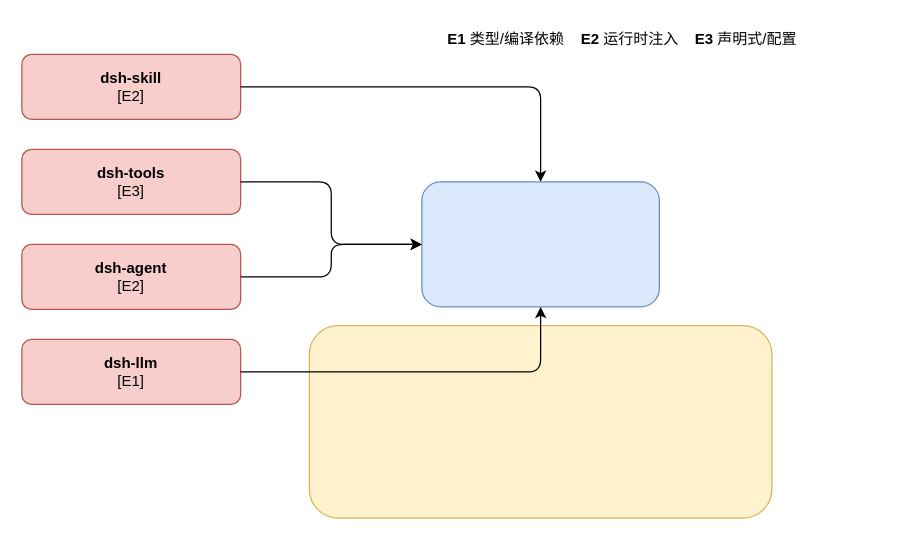
The diagram is 919 pixels wide and 540 high, and some of its shapes have lost their labels. The shapes that lost their labels are listed below. From the top down, each one's centre as x and y in pixels, then its label:
At (540,244): "dsh-tool-skill G18 技能".
At (540,421): "provides · ctx.tools: skill · skill-catalog catalog 消息注入 · user 显式 /<skill> 调用注入".
